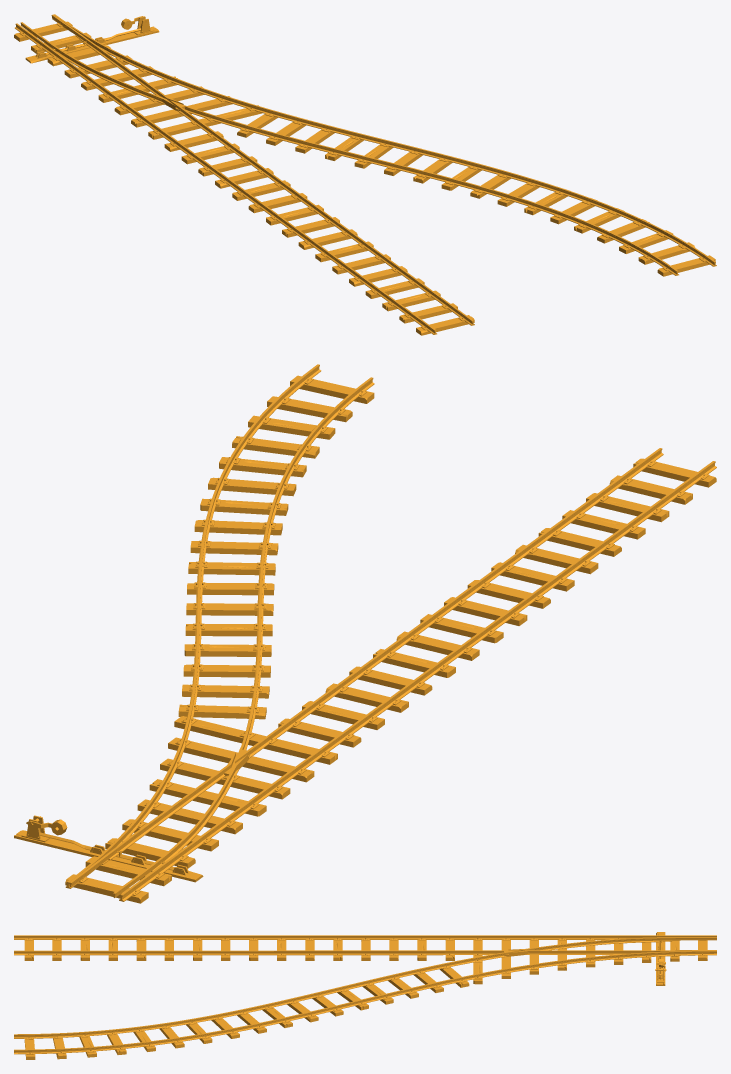
File: SM_Train_Rail_Switch_Platform_Old.fbx
The picture shows the model from 3 angles, top to bottom: view 1: azimuth 30°, elevation 25°; view 2: azimuth 150°, elevation 25°; view 3: azimuth 270°, elevation 25°; orthographic projection. The views are drawn at different scales.
Parts seen in each view (by area): view 1: SM_Train_Rail_Switch_Platform_Old; view 2: SM_Train_Rail_Switch_Platform_Old; view 3: SM_Train_Rail_Switch_Platform_Old.
Part boxes in pixels (box(x1,y1,x2,y2)): SM_Train_Rail_Switch_Platform_Old: box(14, 14, 716, 335); SM_Train_Rail_Switch_Platform_Old: box(14, 364, 716, 903); SM_Train_Rail_Switch_Platform_Old: box(14, 932, 716, 1059).
Bounding box in the file's own units: 12.77 × 0.6969 × 30.
